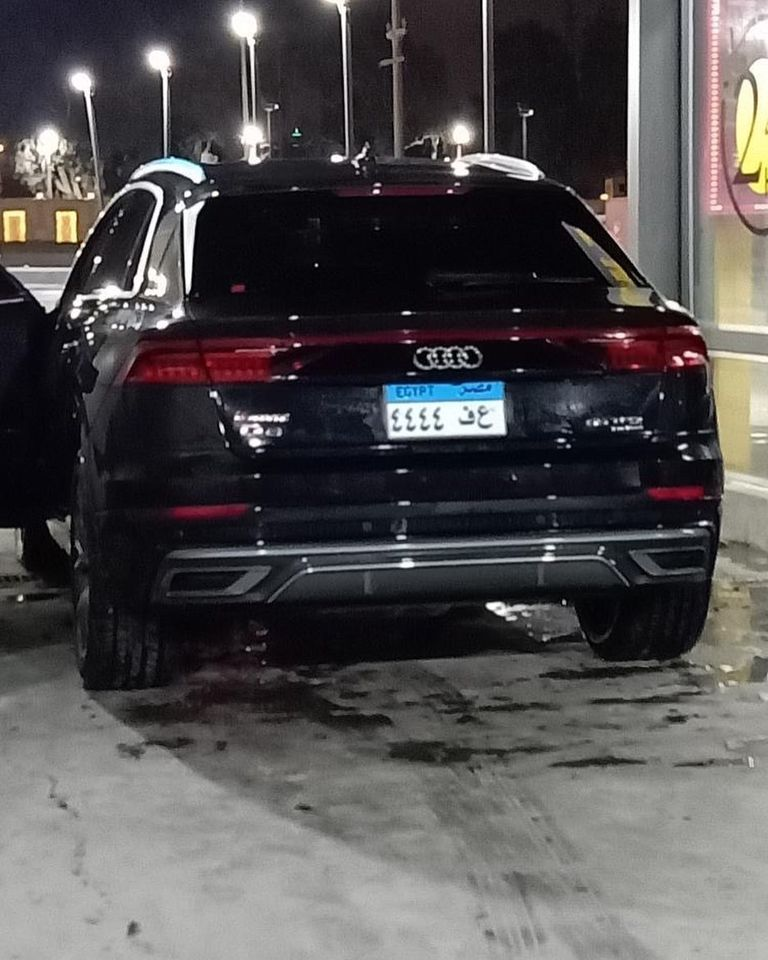carpl: (387, 374, 507, 443)
